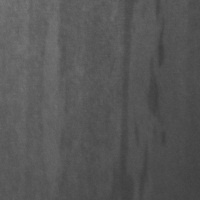inclusion: (116, 1, 144, 199), (54, 0, 82, 189), (145, 16, 173, 146)
